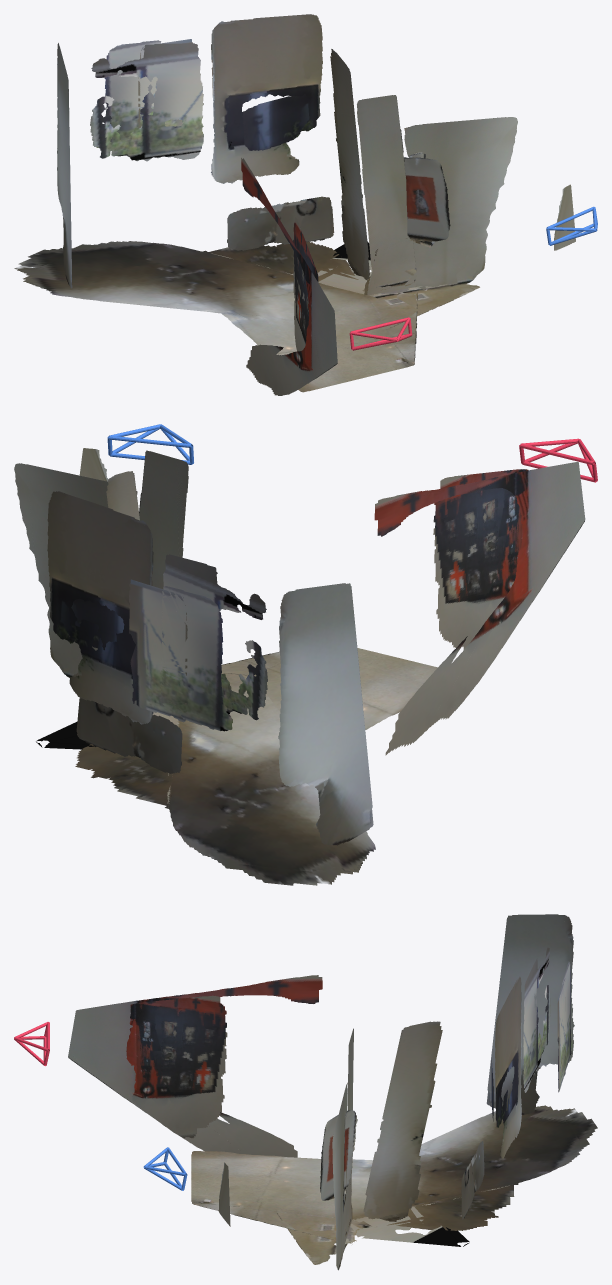
File: pred.glb
3 views of the same model, one above another, from view 1: azimuth 30°, elevation 25°; view 2: azimuth 150°, elevation 25°; view 3: azimuth 270°, elevation 25° (orthographic). The views are drawn at different scales.
Parts seen in each view (by area): view 1: Node; view 2: Node; view 3: Node.
Part boxes in pixels (left/top/right/bottom): Node: left=14, top=14, right=597, bottom=395; Node: left=14, top=424, right=597, bottom=885; Node: left=14, top=914, right=597, bottom=1270.
Size of the model in its own units: 5.39 by 3.28 by 7.25.
Materials: 20 (18 with a texture image).
